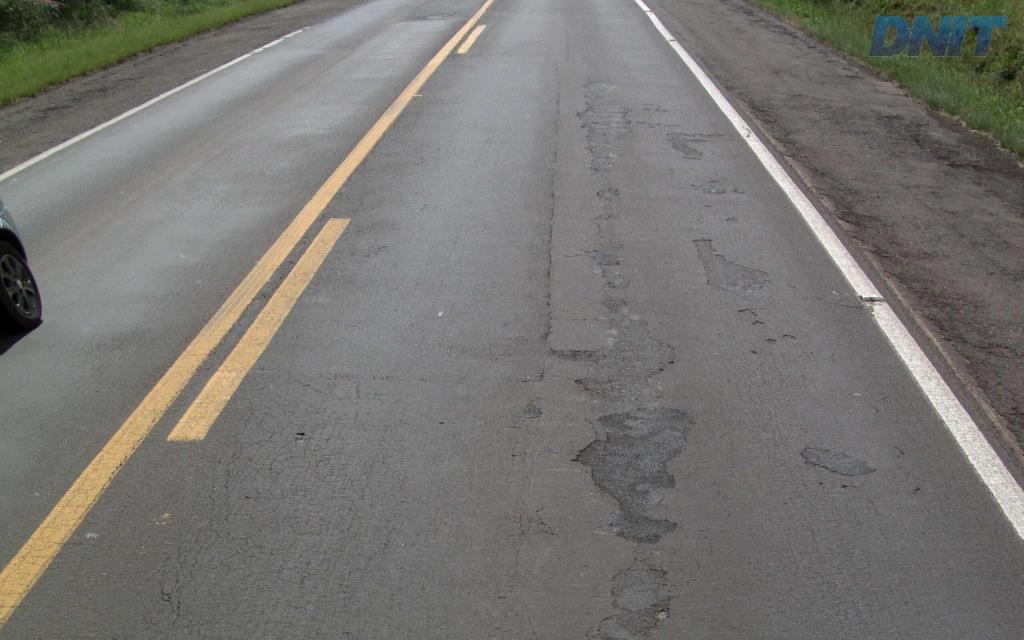pothole: (684, 229, 785, 296), (736, 305, 756, 318), (652, 606, 671, 619), (763, 333, 777, 345), (750, 317, 765, 324)
